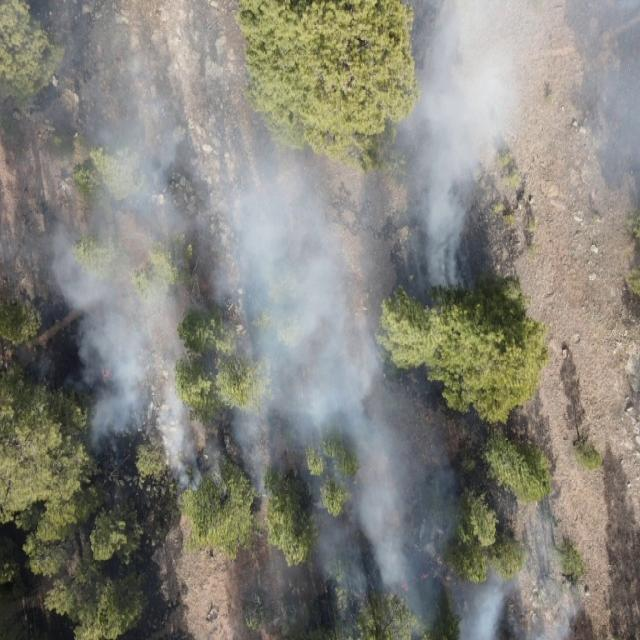fire: (398, 570, 432, 595), (98, 362, 114, 382)
smoke: (0, 0, 479, 495), (256, 496, 582, 640), (479, 0, 640, 256)
